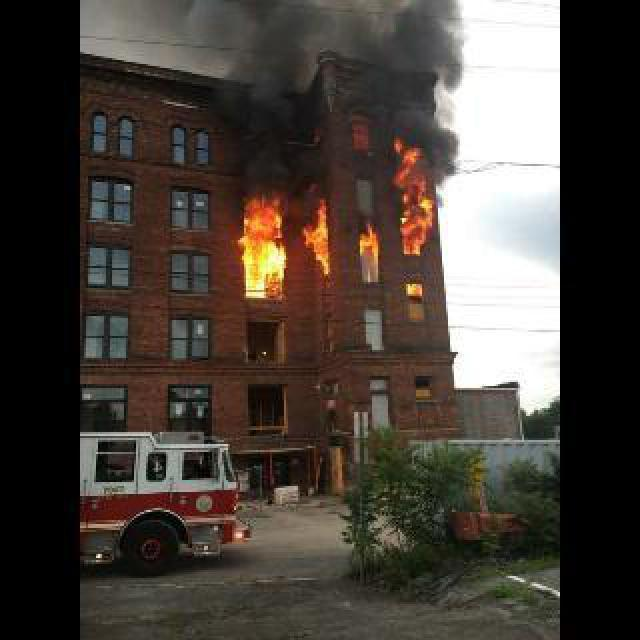Fire: (224, 146, 444, 300)
Smoke: (166, 2, 486, 172)
